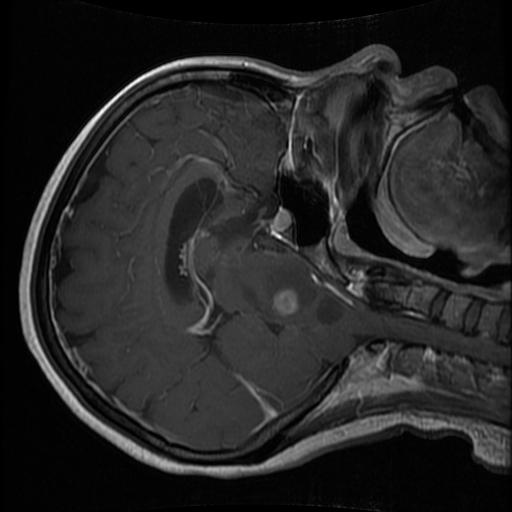glioma: (272, 290, 298, 316)
